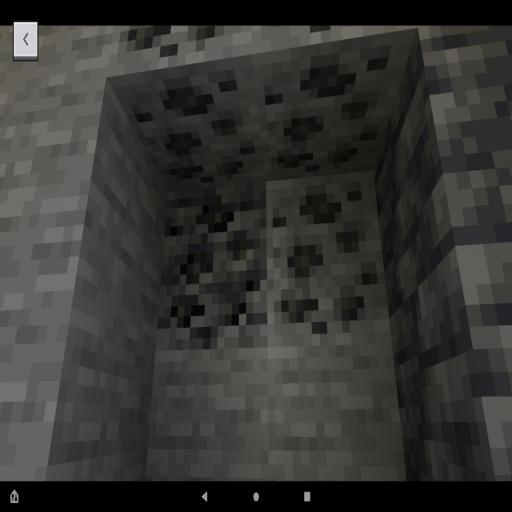coal ore: (113, 22, 400, 364)
